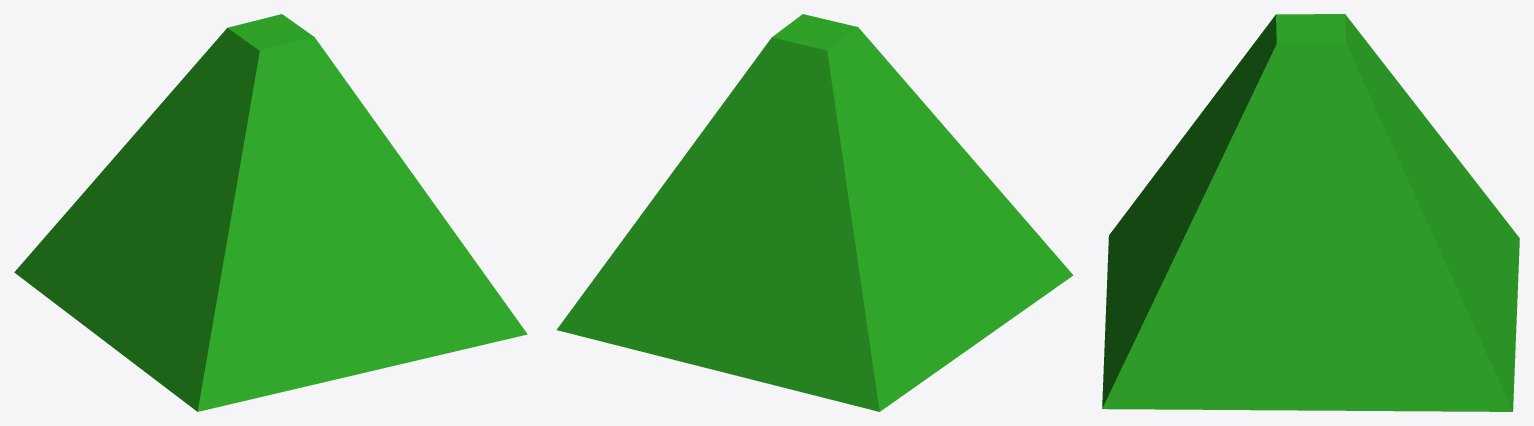
Rendered from Bush2.fbx.
The picture shows the model from 3 angles, left to right: view 1: azimuth 30°, elevation 25°; view 2: azimuth 150°, elevation 25°; view 3: azimuth 270°, elevation 25°; orthographic projection. The views are drawn at different scales.
Parts seen in each view (by area): view 1: Bush02; view 2: Bush02; view 3: Bush02.
Part boxes in pixels (x1,y1,x2,y2): Bush02: [14, 14, 527, 411]; Bush02: [557, 14, 1073, 411]; Bush02: [1102, 14, 1519, 411].
Bounding box in the file's own units: 397 × 342 × 397.
